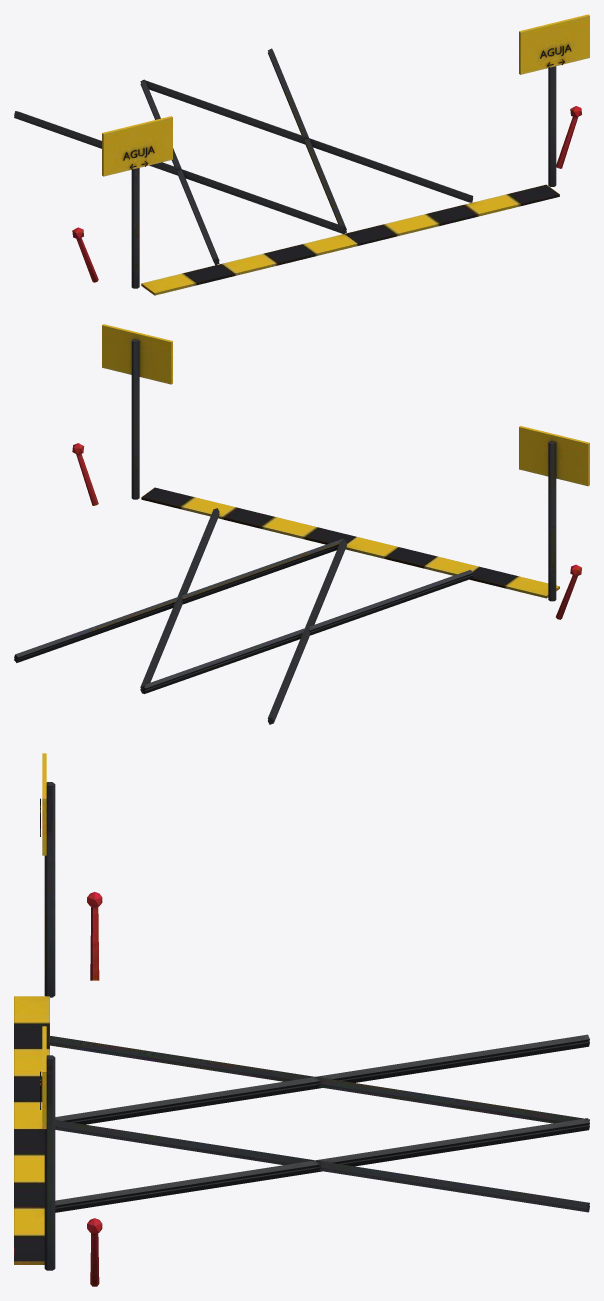
File: aguja_via.glb
3 views of the same model, one above another, from view 1: azimuth 30°, elevation 25°; view 2: azimuth 150°, elevation 25°; view 3: azimuth 270°, elevation 25° (orthographic). The views are drawn at different scales.
Parts seen in each view (by area): view 1: aguja_via; view 2: aguja_via; view 3: aguja_via.
Boxes of the visible parts, box(x1,y1,x2,y2) form: aguja_via: box(14, 14, 589, 295); aguja_via: box(14, 324, 589, 724); aguja_via: box(14, 753, 589, 1286).
Bounding box in the file's own units: 8.78 × 2.72 × 6.42.
1 material, 1 textured.
